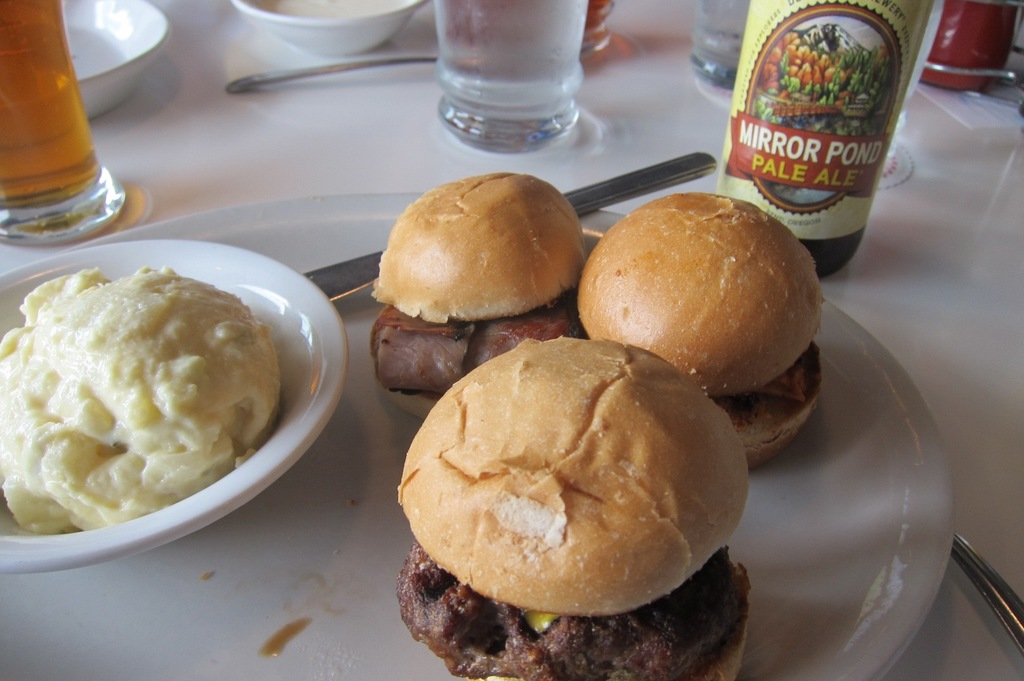Hamburger: (394, 336, 755, 680), (577, 193, 827, 467), (371, 174, 588, 392)
